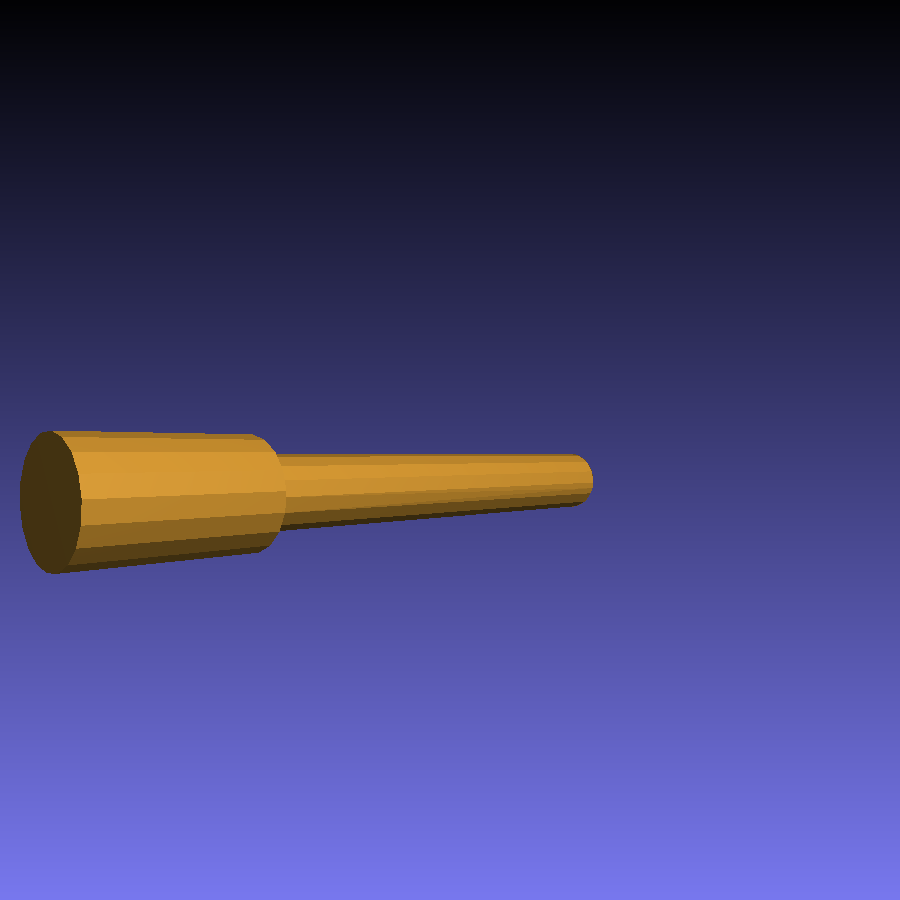cargo_g: (17, 426, 595, 577)
